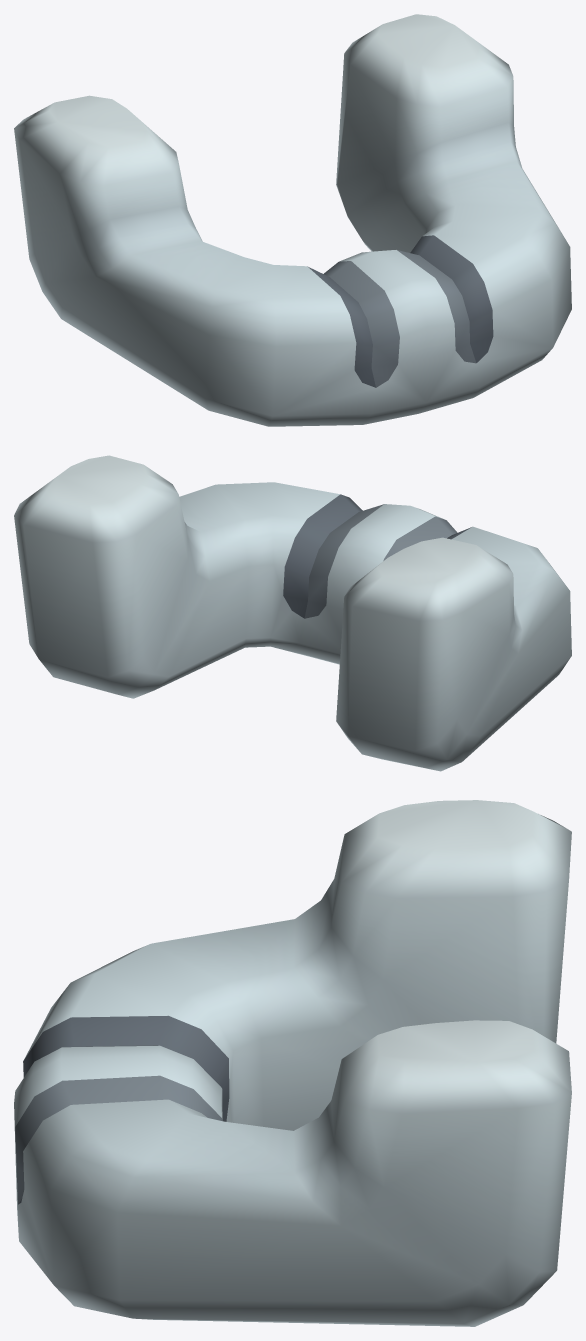
Rendered from bone_jaw_LOD_group.fbx.
3 renders of one model, top to bottom at view 1: azimuth 30°, elevation 25°; view 2: azimuth 150°, elevation 25°; view 3: azimuth 270°, elevation 25°, orthographic. The views are drawn at different scales.
Parts seen in each view (by area): view 1: bone_jaw_LOD0; view 2: bone_jaw_LOD0; view 3: bone_jaw_LOD0.
Part boxes in pixels (left/top/right/bottom): bone_jaw_LOD0: left=14, top=14, right=571, bottom=426; bone_jaw_LOD0: left=14, top=455, right=571, bottom=771; bone_jaw_LOD0: left=14, top=800, right=571, bottom=1326.
Size of what is drawn, in the model's own units: 54.11 by 26.24 by 43.03.
Materials: 1 (1 with a texture image).
